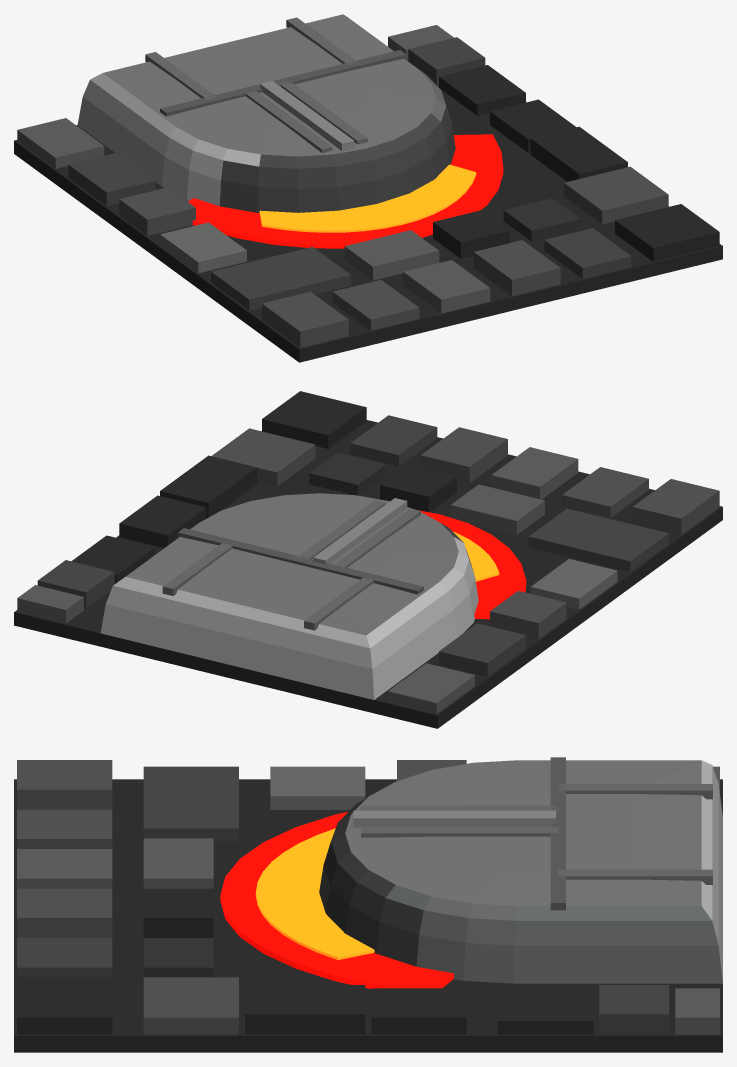
Rendered from newshd-239.glb.
3 views of the same model, one above another, from view 1: azimuth 30°, elevation 25°; view 2: azimuth 150°, elevation 25°; view 3: azimuth 270°, elevation 25° (orthographic). The views are drawn at different scales.
Parts seen in each view (by area): view 1: newshd-239; view 2: newshd-239; view 3: newshd-239.
Boxes of the visible parts, x1,y1,x2,y2 form: newshd-239: (14, 14, 722, 362); newshd-239: (14, 391, 722, 728); newshd-239: (14, 757, 722, 1052).
Size of the model in its own units: 2 by 0.34 by 2.33.
